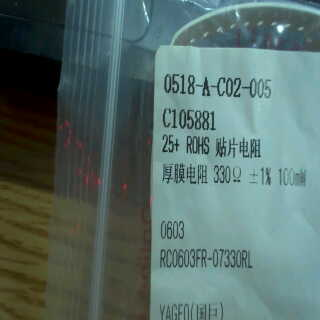330R: (210, 161, 243, 188)
